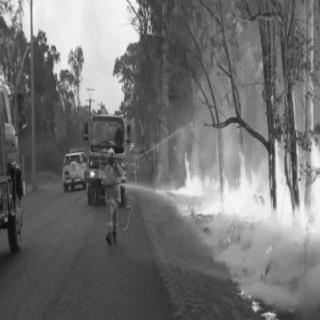Fire: (170, 129, 318, 237)
